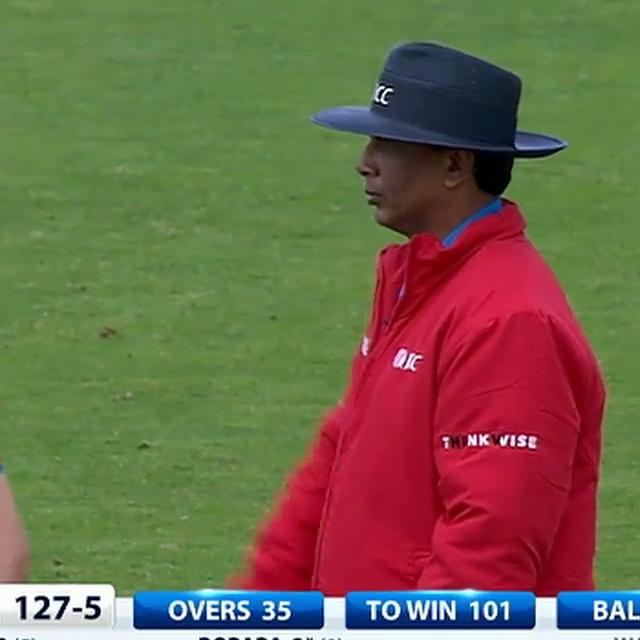umpire: (206, 8, 640, 593)
